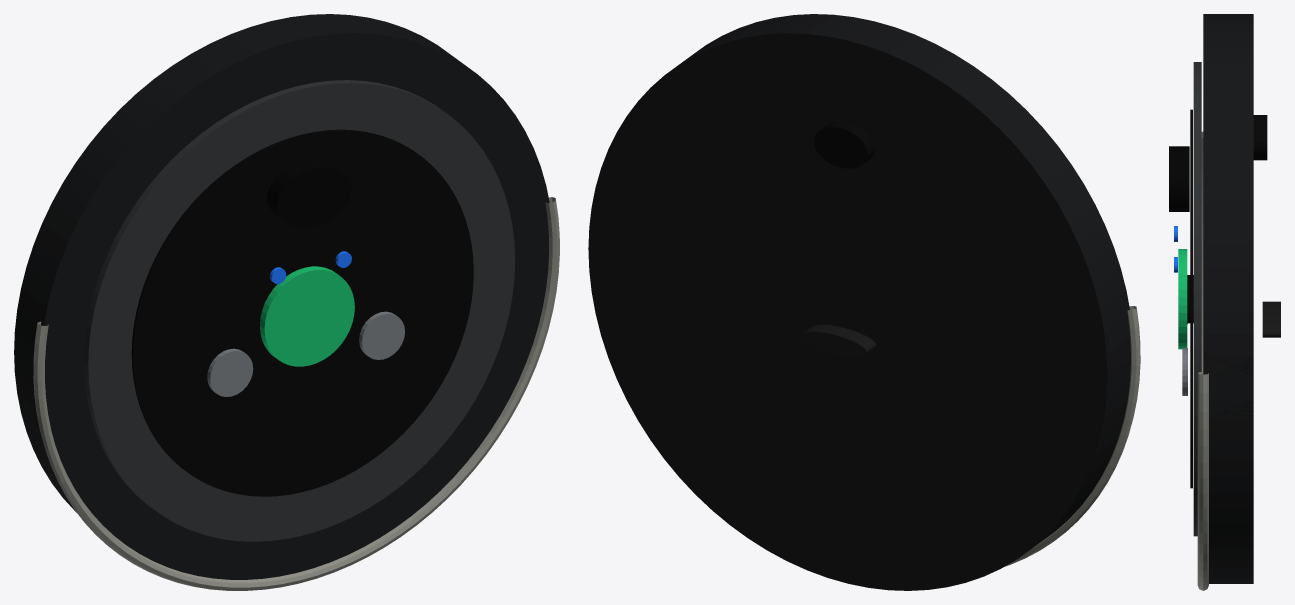
The model's file is roomba_style_robot_vacuum.obj.
The picture shows the model from 3 angles, left to right: view 1: azimuth 30°, elevation 25°; view 2: azimuth 150°, elevation 25°; view 3: azimuth 270°, elevation 25°; orthographic projection. The views are drawn at different scales.
Visible parts, largest first — view 1: Inset_cleaning_bin_panel_ring, Body_round_low_profile_disk, Top_lid_slightly_raised_circle, Rear_body_edge_trim, Large_CLEAN_button, Raised_sensor_dome_on_top_front, Small_SPOT_button, Small_HOME_button; view 2: Body_round_low_profile_disk, Rear_body_edge_trim, Front_caster_wheel, Main_underbody_brush_core; view 3: Body_round_low_profile_disk, Top_lid_slightly_raised_circle, Rear_body_edge_trim, Raised_sensor_dome_on_top_front, Inset_cleaning_bin_panel_ring, Large_CLEAN_button, Main_underbody_brush_core, Front_caster_wheel, Rear_dust_bin_release_handle, Small_SPOT_button, Front_IR_sensor_window.
Boxes of the visible parts, x1,y1,x2,y2 form: Inset_cleaning_bin_panel_ring: [131, 129, 473, 496]; Body_round_low_profile_disk: [14, 14, 549, 579]; Top_lid_slightly_raised_circle: [84, 80, 515, 541]; Rear_body_edge_trim: [33, 197, 559, 590]; Large_CLEAN_button: [260, 266, 354, 366]; Raised_sensor_dome_on_top_front: [267, 159, 351, 227]; Small_SPOT_button: [359, 311, 404, 359]; Small_HOME_button: [207, 348, 253, 396]; Body_round_low_profile_disk: [588, 14, 1130, 590]; Rear_body_edge_trim: [1005, 306, 1140, 566]; Front_caster_wheel: [813, 122, 874, 168]; Main_underbody_brush_core: [800, 324, 876, 356]; Body_round_low_profile_disk: [1203, 14, 1253, 583]; Top_lid_slightly_raised_circle: [1193, 62, 1201, 536]; Rear_body_edge_trim: [1197, 131, 1208, 590]; Raised_sensor_dome_on_top_front: [1169, 146, 1189, 211]; Inset_cleaning_bin_panel_ring: [1190, 109, 1192, 488]; Large_CLEAN_button: [1178, 249, 1187, 349]; Main_underbody_brush_core: [1262, 301, 1280, 337]; Front_caster_wheel: [1253, 115, 1267, 160]; Rear_dust_bin_release_handle: [1205, 356, 1253, 418]; Small_SPOT_button: [1182, 348, 1187, 395]; Front_IR_sensor_window: [1187, 275, 1193, 323].
Size of what is drawn, in the model's own units: 2.56 by 2.53 by 0.49.
